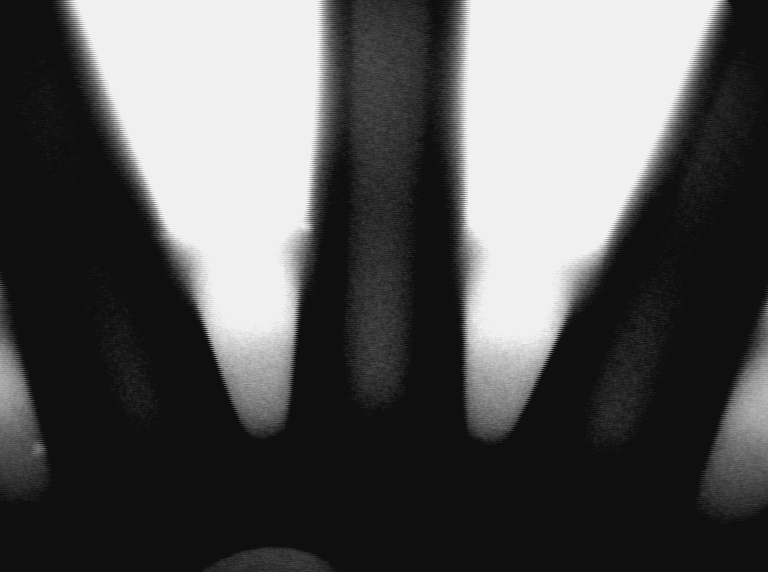defect: (27, 438, 53, 460)
